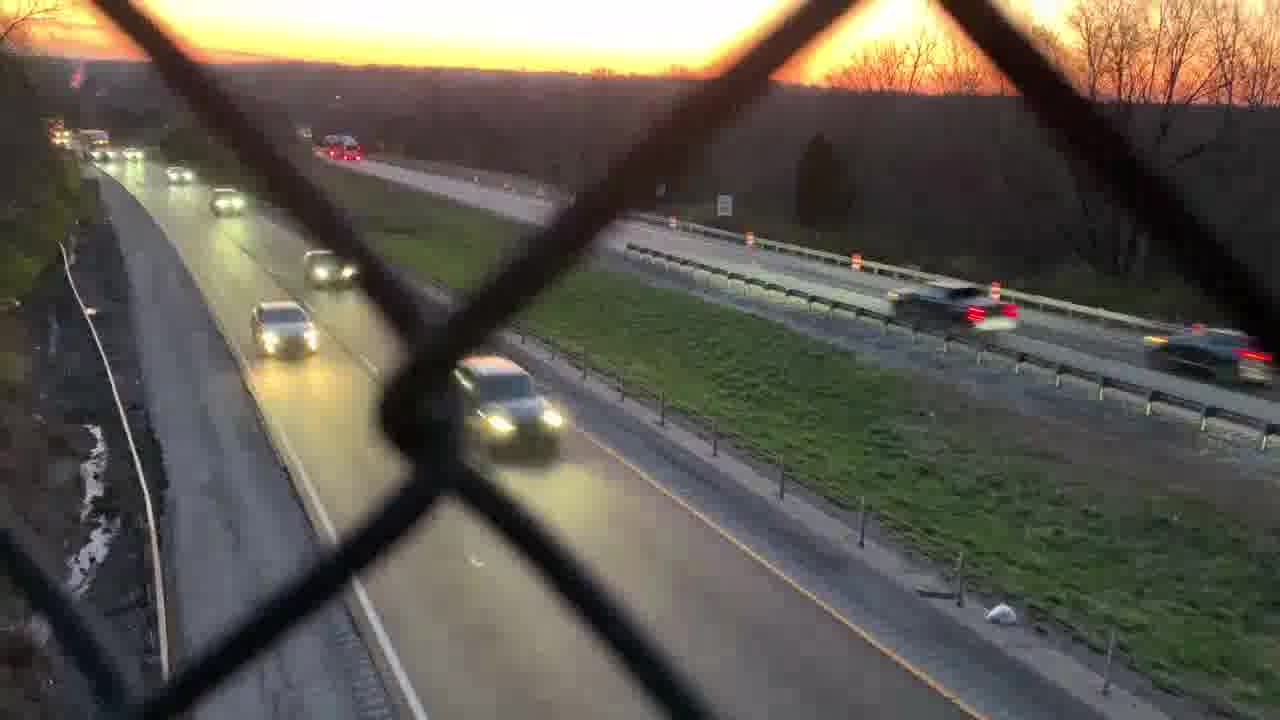largeCar: (451, 355, 564, 457)
lightTruck: (879, 275, 1019, 333)
smallCar: (244, 295, 316, 360)
